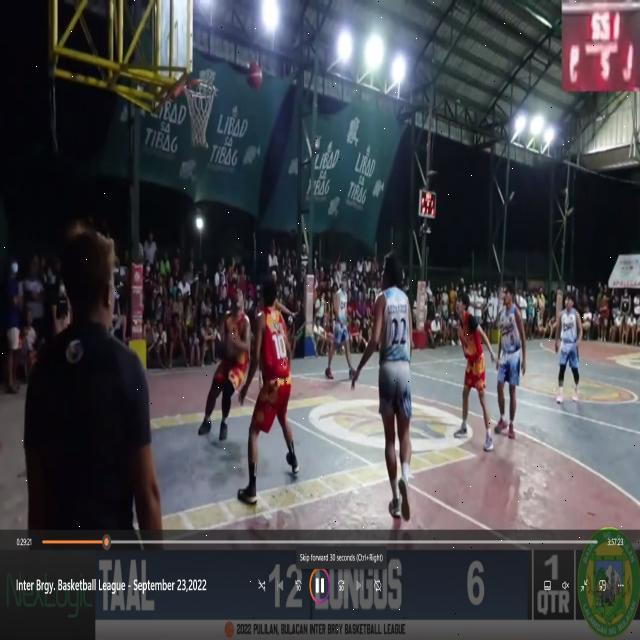ball: (244, 56, 263, 88)
